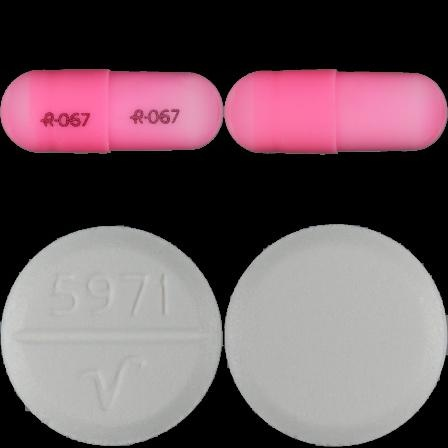62584-812: (0, 0, 224, 224)
